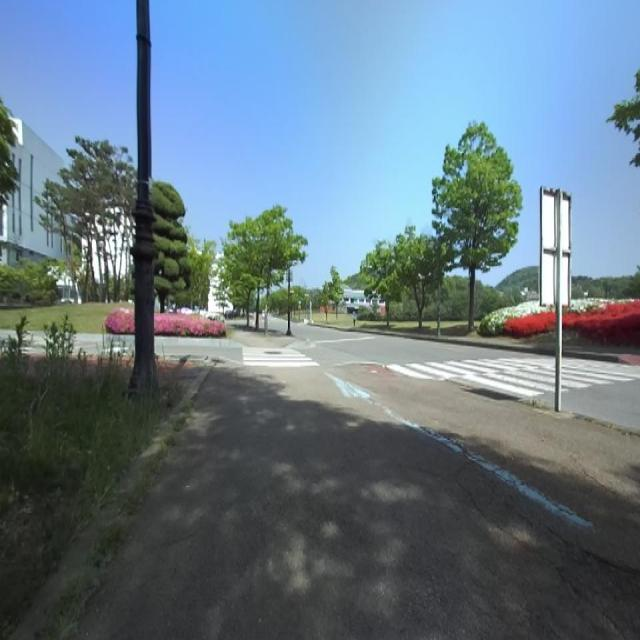sidewalk: (78, 364, 640, 639)
